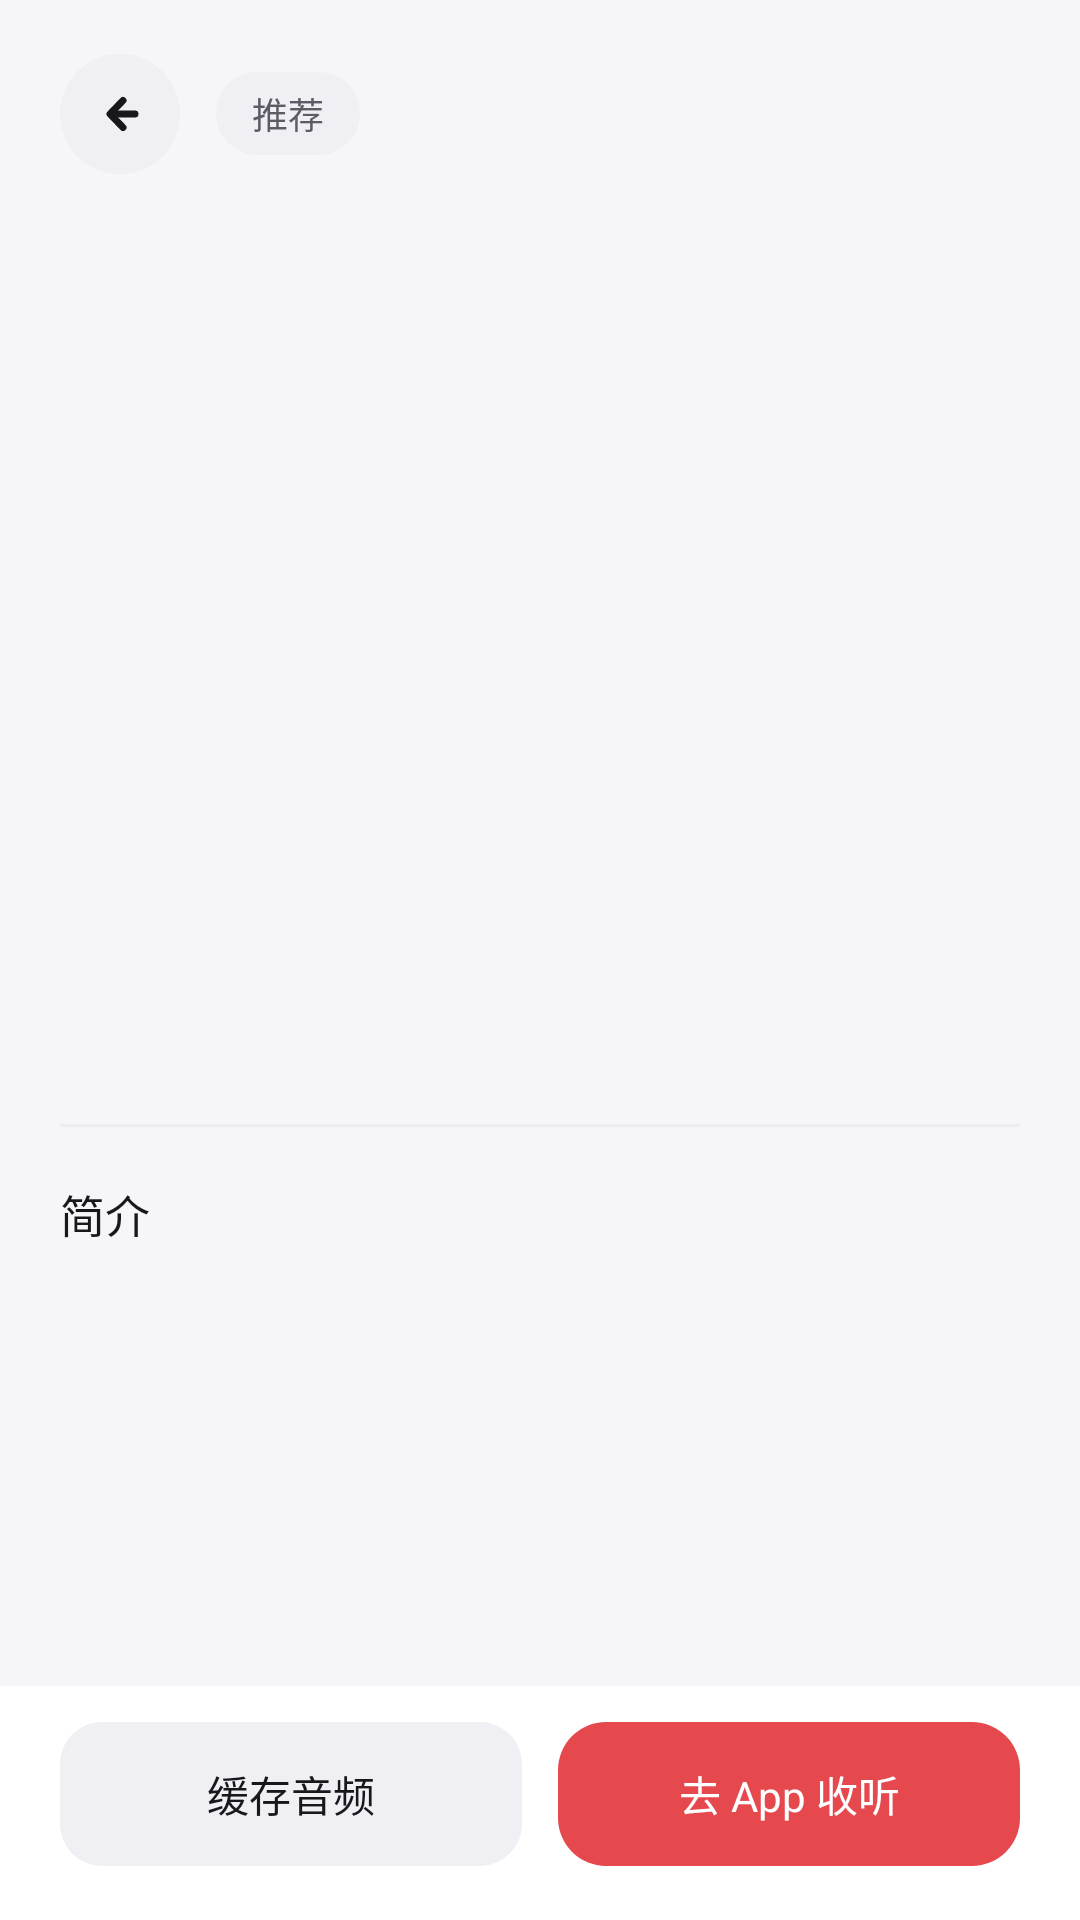

Icon bounding boxes for this 1080px x 1920px phone screenshot, format (x1, y1, x2, y2):
返回: (106, 96, 139, 131)
